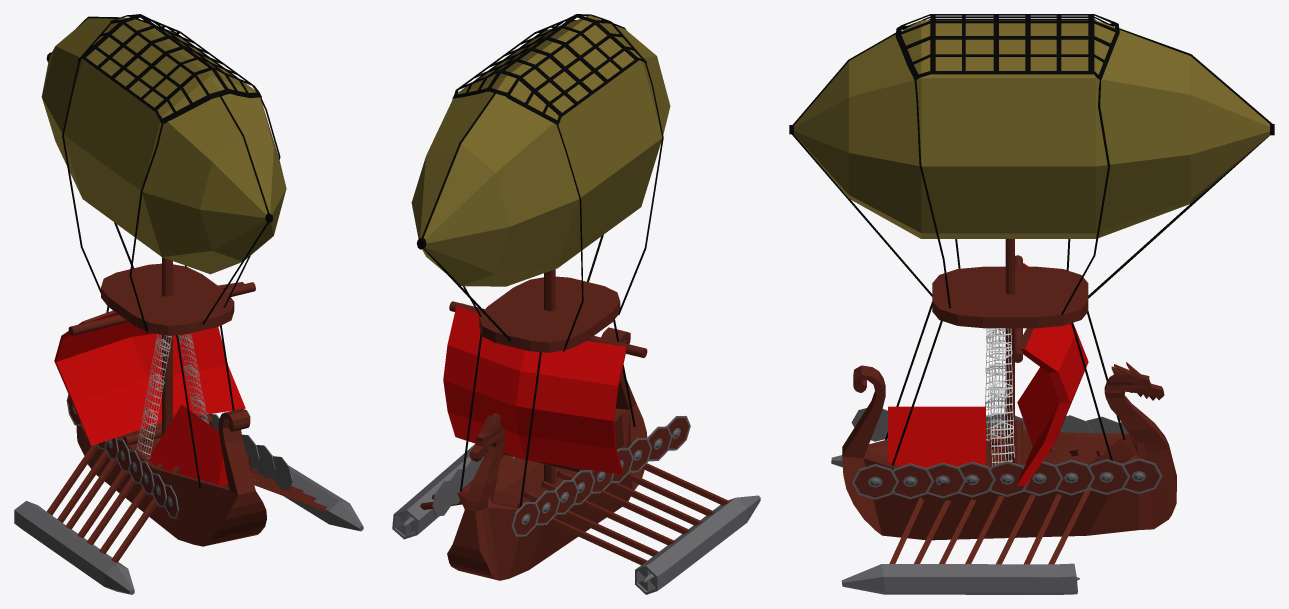
The model's file is Winter stage Airship.fbx.
The picture shows the model from 3 angles, left to right: view 1: azimuth 30°, elevation 25°; view 2: azimuth 150°, elevation 25°; view 3: azimuth 270°, elevation 25°; orthographic projection. The views are drawn at different scales.
Visible parts, largest first — view 1: Zeplin Baloon, Sail, Ship, Watchtower?, Upper Net, Jet Engine 1, Tent, Shield, Jet Engine 2, Shield.001, Mast, Side Net 1 (+10 smaller); view 2: Zeplin Baloon, Sail, Ship, Watchtower?, Upper Net, Shield, Jet Engine 1, Jet Engine 2, Shield.001, Cube, Cube.002, Cube.003 (+7 smaller); view 3: Zeplin Baloon, Ship, Shield.001, Watchtower?, Sail, Jet Engine 2, Upper Net, Tent, Side Net 2, Shield, Mast, Side Net 1 (+1 smaller).
Part boxes in pixels (x1,y1,x2,y2): Zeplin Baloon: (41,17,286,274); Sail: (54,282,255,445); Ship: (76,408,266,546); Watchtower?: (101,263,234,335); Upper Net: (77,14,261,124); Jet Engine 1: (14,500,134,594); Tent: (148,404,228,485); Shield: (66,394,178,518); Jet Engine 2: (251,456,363,531); Shield.001: (198,413,292,489); Mast: (162,257,172,435); Side Net 1: (136,334,171,458); Zeplin Baloon: (411,15,670,286); Sail: (443,301,647,474); Ship: (447,327,647,580); Watchtower?: (479,276,620,352); Upper Net: (452,14,646,124); Shield: (511,415,690,536); Jet Engine 1: (635,495,760,594); Jet Engine 2: (392,444,475,539); Shield.001: (432,456,483,516); Cube: (524,491,658,556); Cube.002: (541,481,675,545); Cube.003: (557,470,690,534); Zeplin Baloon: (789,20,1274,238); Ship: (842,362,1176,540); Shield.001: (851,458,1162,499); Watchtower?: (932,266,1088,328); Sail: (1012,255,1088,486); Jet Engine 2: (841,563,1079,594); Upper Net: (895,14,1119,80); Tent: (888,406,985,467); Side Net 2: (988,328,1014,465); Shield: (851,408,1129,441); Mast: (1005,239,1014,462); Side Net 1: (985,328,1005,440).
Size of the model in its own units: 235 by 419 by 353.
